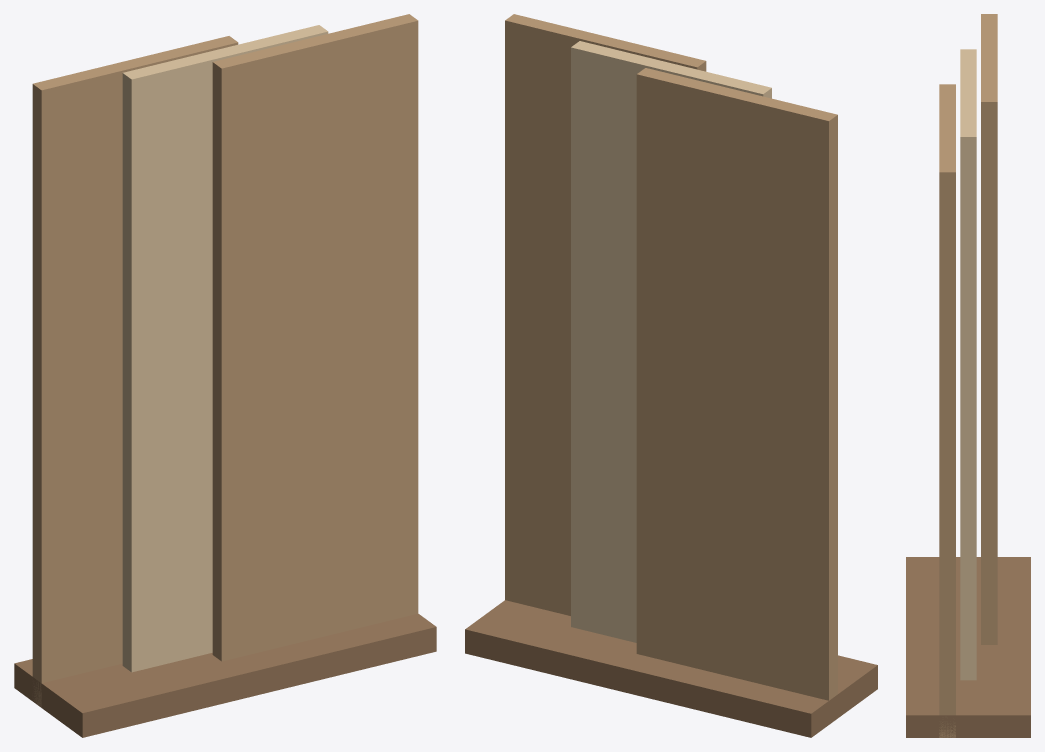
The model's file is storm_shutters.glb.
3 renders of one model, left to right at view 1: azimuth 30°, elevation 25°; view 2: azimuth 150°, elevation 25°; view 3: azimuth 270°, elevation 25°, orthographic. The views are drawn at different scales.
Visible parts, largest first — view 1: storm_shutters; view 2: storm_shutters; view 3: storm_shutters.
Boxes of the visible parts, <box> form: storm_shutters: <box>14,14,436,737</box>; storm_shutters: <box>465,14,877,737</box>; storm_shutters: <box>906,14,1030,737</box>.
Bounding box in the file's own units: 0.9 × 1.5 × 0.3.
